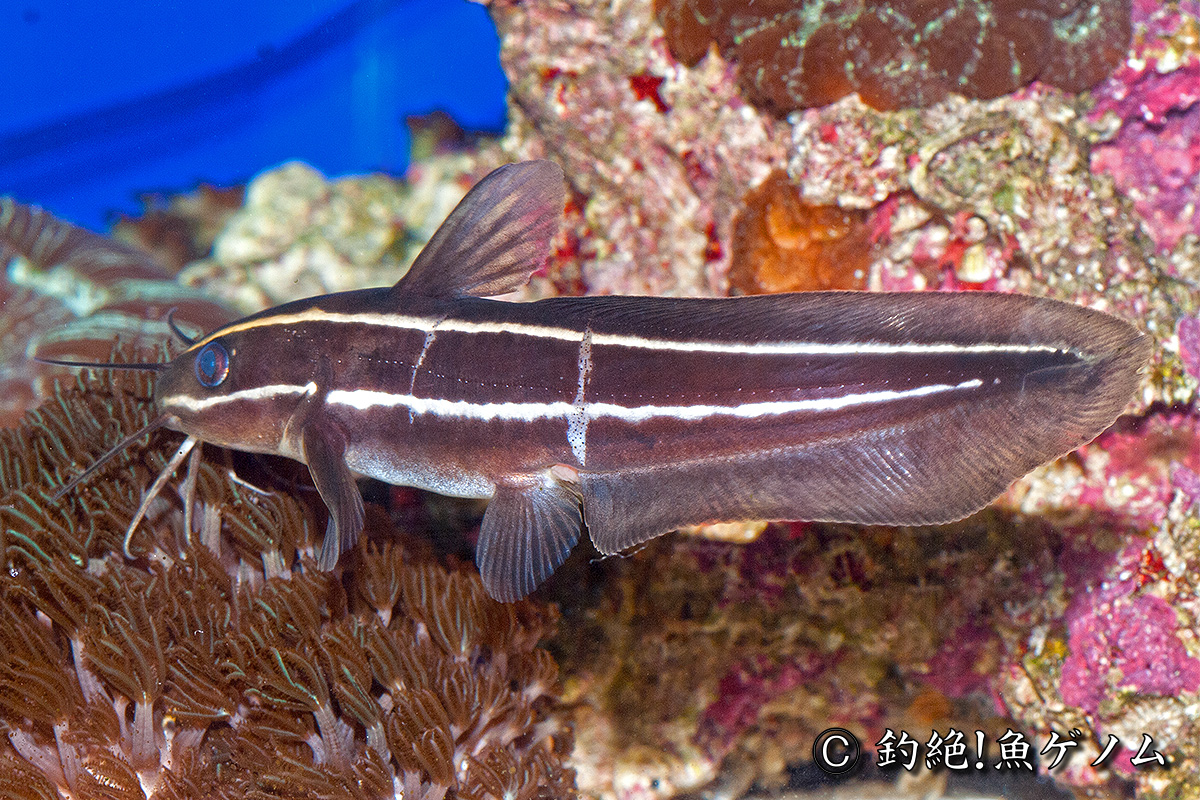gonzui: (40, 181, 1185, 585)
